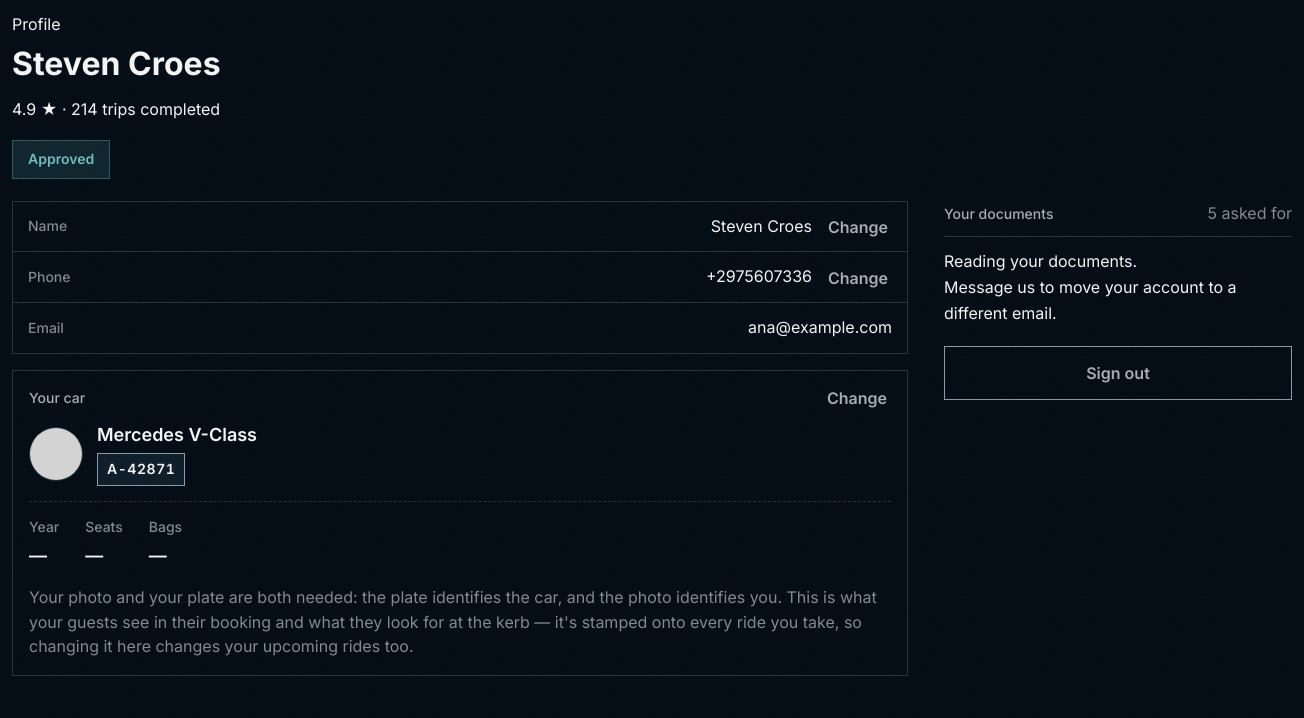
Test: Profile › shows the database's refusal rather than pretending it saved
Click the button "Change" next to "+2975607336" at (858,278), box 824,256 -> 892,300
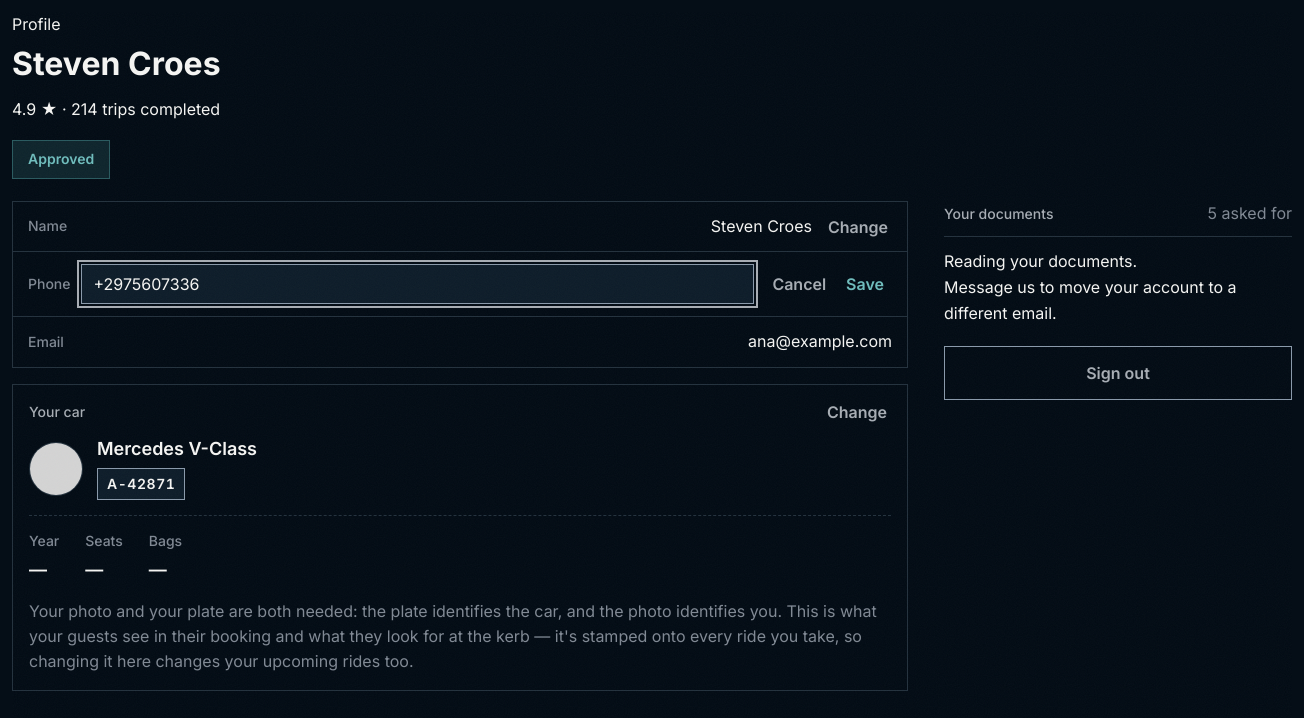
Replace the text in the field labelled "Phone" with "+2975941122" at (417,284), box 80,264 -> 754,304
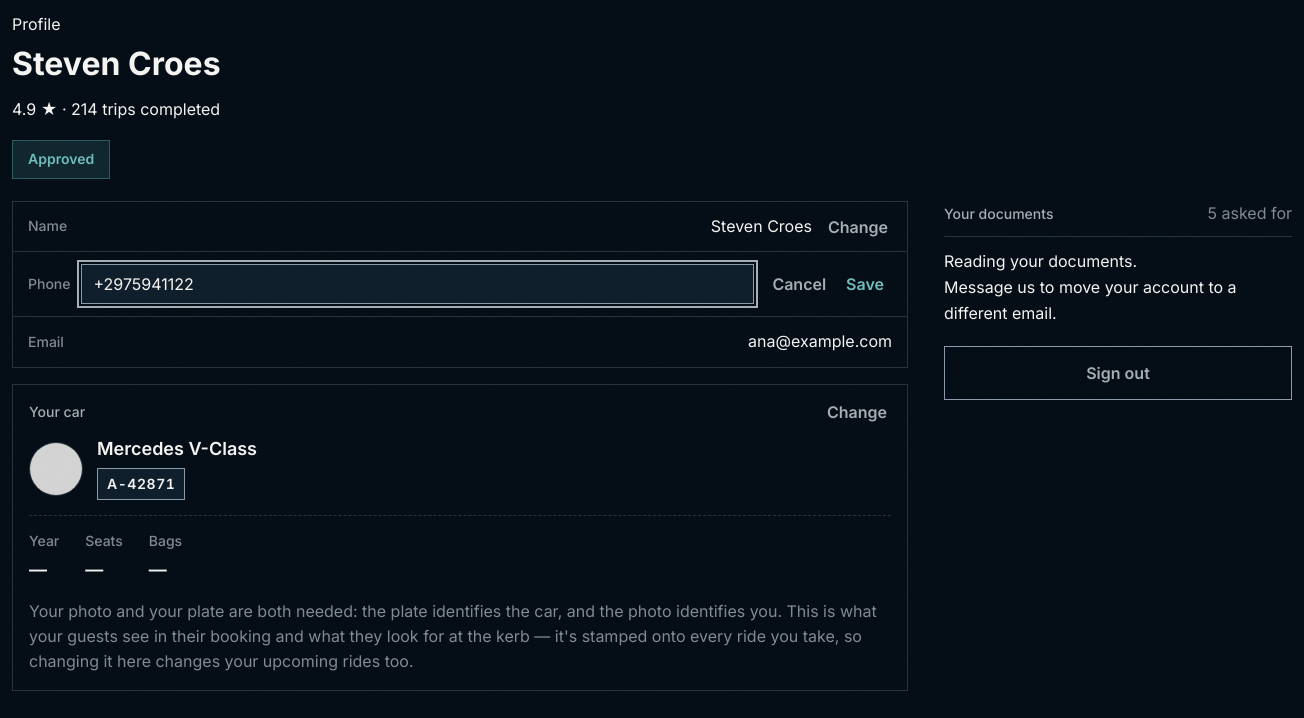
Click the button "Save" at (865,284), box 838,264 -> 892,304
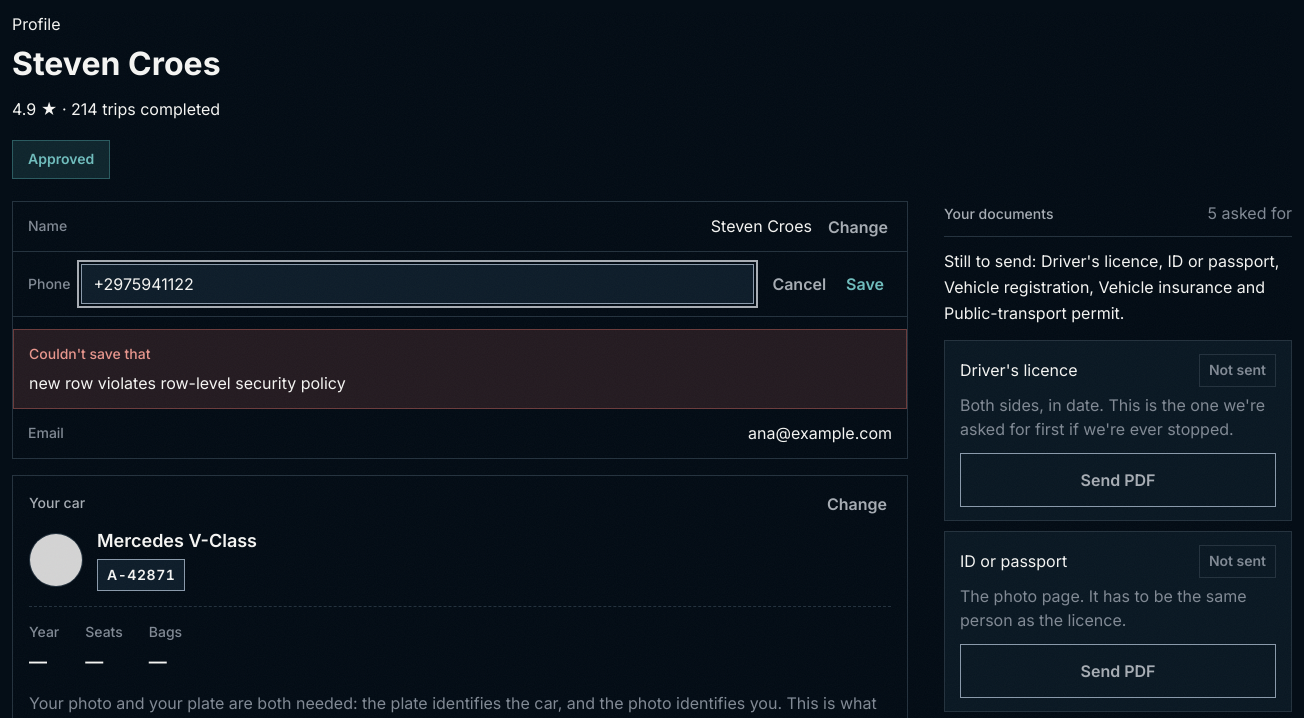
Expected: the text "new row violates row-level security policy" is shown, 29,373 -> 346,393
